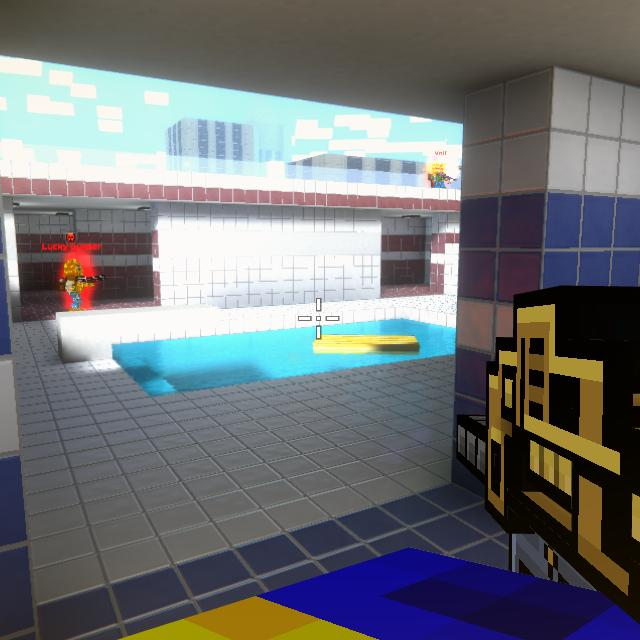Enemy: (59, 259, 91, 311), (426, 161, 449, 188)
